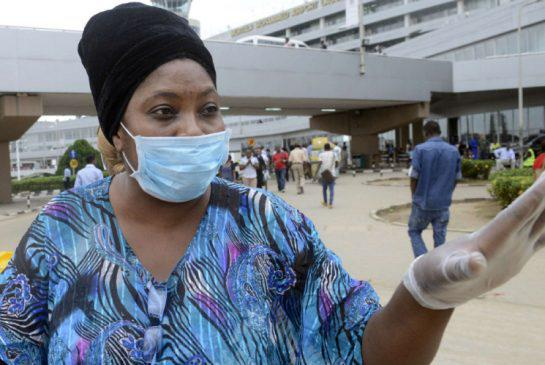WRONG: (128, 88, 228, 193)
